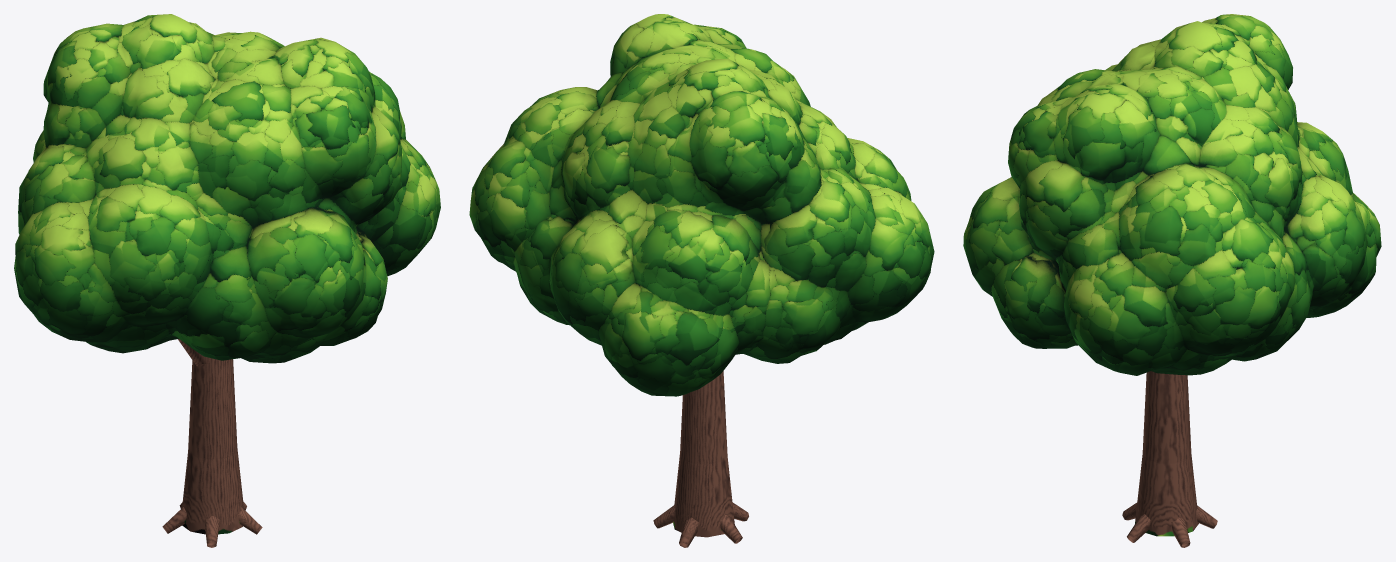
File: broadleaf_tree.glb
3 views of the same model, side by side, from view 1: azimuth 30°, elevation 25°; view 2: azimuth 150°, elevation 25°; view 3: azimuth 270°, elevation 25° (orthographic). The views are drawn at different scales.
Visible parts, largest first — view 1: broadleaf_tree; view 2: broadleaf_tree; view 3: broadleaf_tree.
Boxes of the visible parts, bbox=[...] form: broadleaf_tree: bbox=[14, 14, 440, 547]; broadleaf_tree: bbox=[469, 14, 934, 547]; broadleaf_tree: bbox=[963, 14, 1381, 547].
Size of the model in its own units: 7.18 by 8.42 by 6.51.
1 material, 1 textured.
